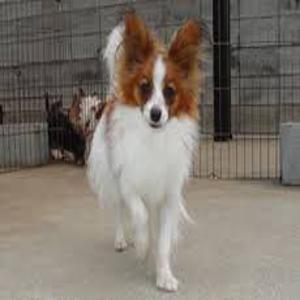yell: (86, 11, 203, 290)
